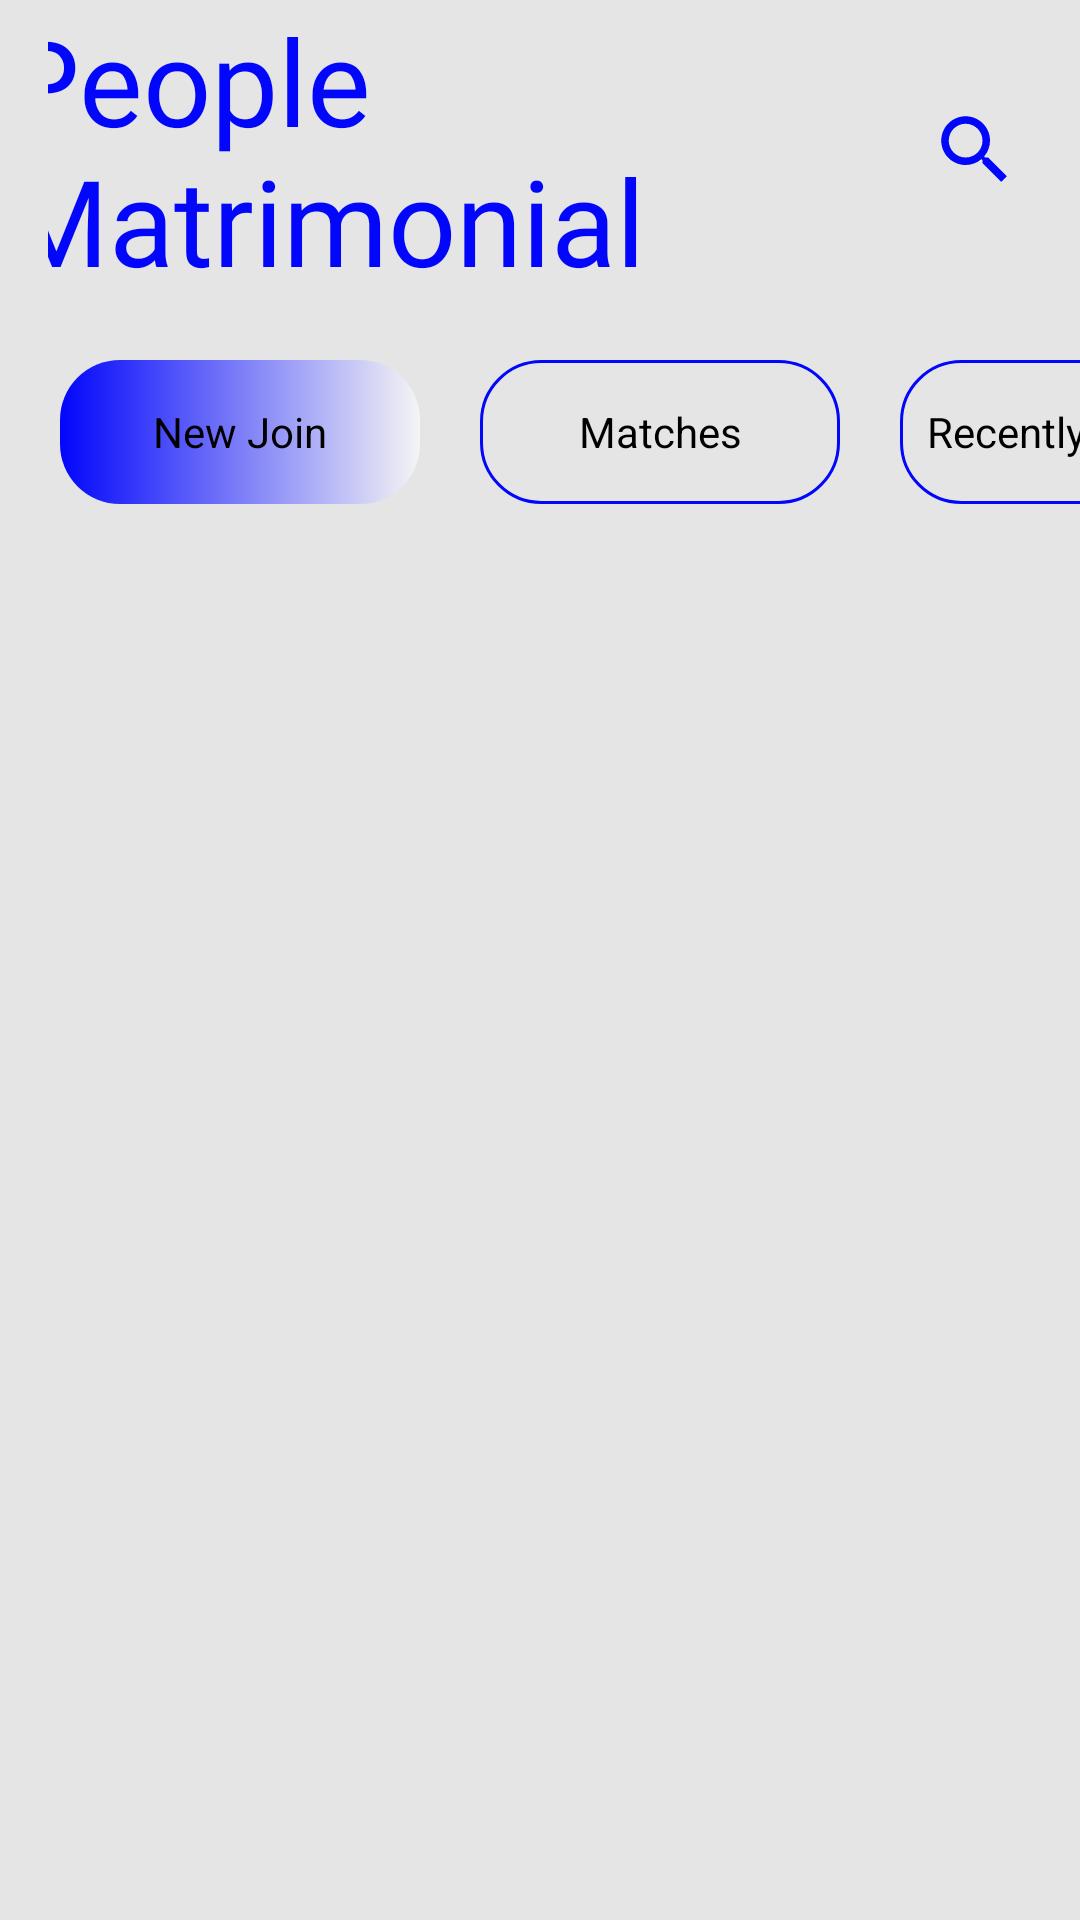

Named icons in this screenshot (1080*1920) and their centers, [x,y]:
search: [974,149]
